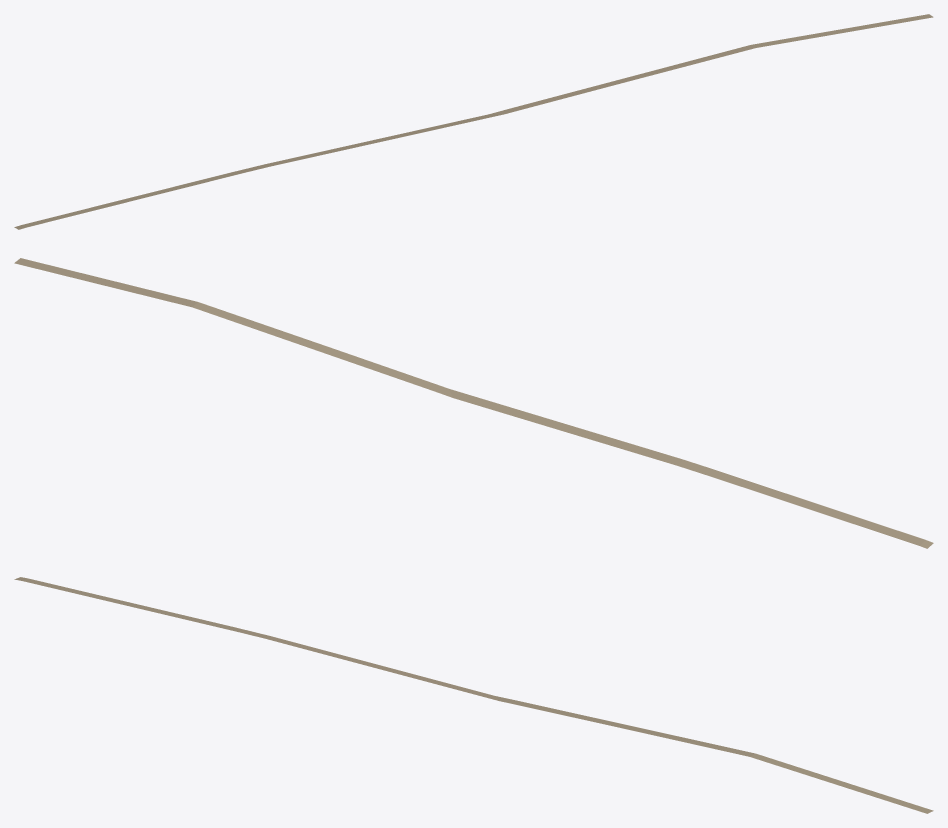
File: farm_-4_-3_track.glb
3 renders of one model, top to bottom at view 1: azimuth 30°, elevation 25°; view 2: azimuth 150°, elevation 25°; view 3: azimuth 330°, elevation 25°, orthographic. The views are drawn at different scales.
Visible parts, largest first — view 1: geometry_0; view 2: geometry_0; view 3: geometry_0.
Boxes of the visible parts, box(x1,y1,x2,y2) form: geometry_0: box(14, 14, 933, 229); geometry_0: box(14, 258, 933, 548); geometry_0: box(14, 577, 933, 813).
Size of the model in its own units: 301 by 10.16 by 24.
